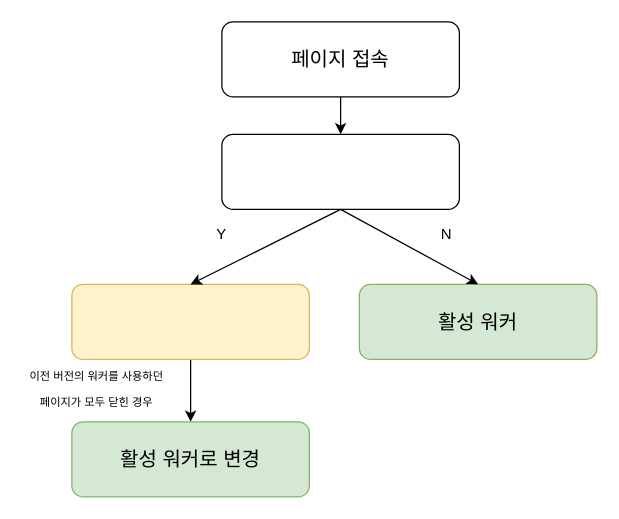
Image size: 619x519. Some labels were removed from this diagram. Each missing label, with the centre of its shape:
"대기중인 워커" belongs at [190,321].
"서비스 워커가 설치되어 있는가?" belongs at [340,171].
